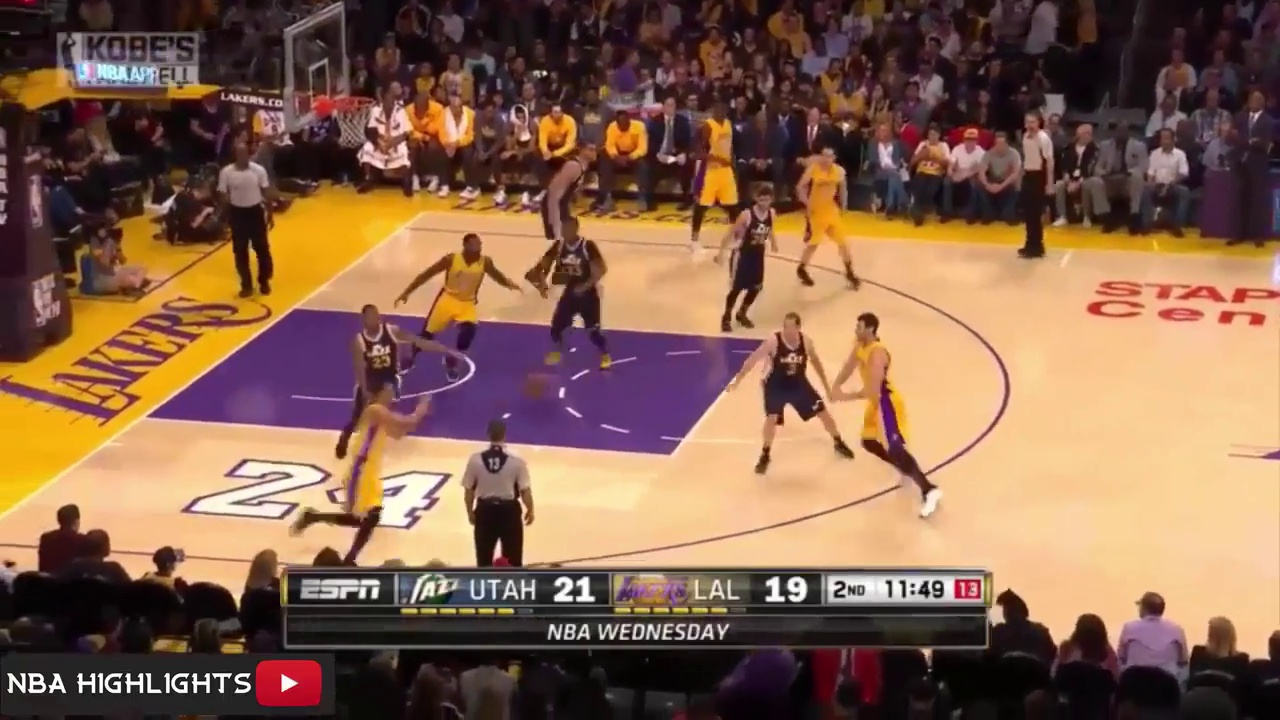jazz: (734, 304, 846, 470), (536, 216, 609, 363), (533, 141, 601, 282), (715, 188, 781, 327), (348, 301, 408, 398)
lakers: (294, 388, 441, 564), (831, 311, 942, 522), (405, 233, 522, 373), (794, 144, 867, 295), (683, 111, 745, 249)
